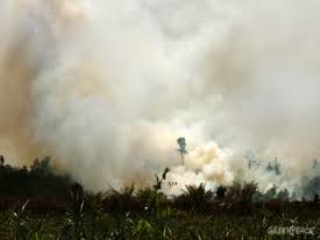smoke: (150, 141, 240, 200), (246, 157, 306, 199)
